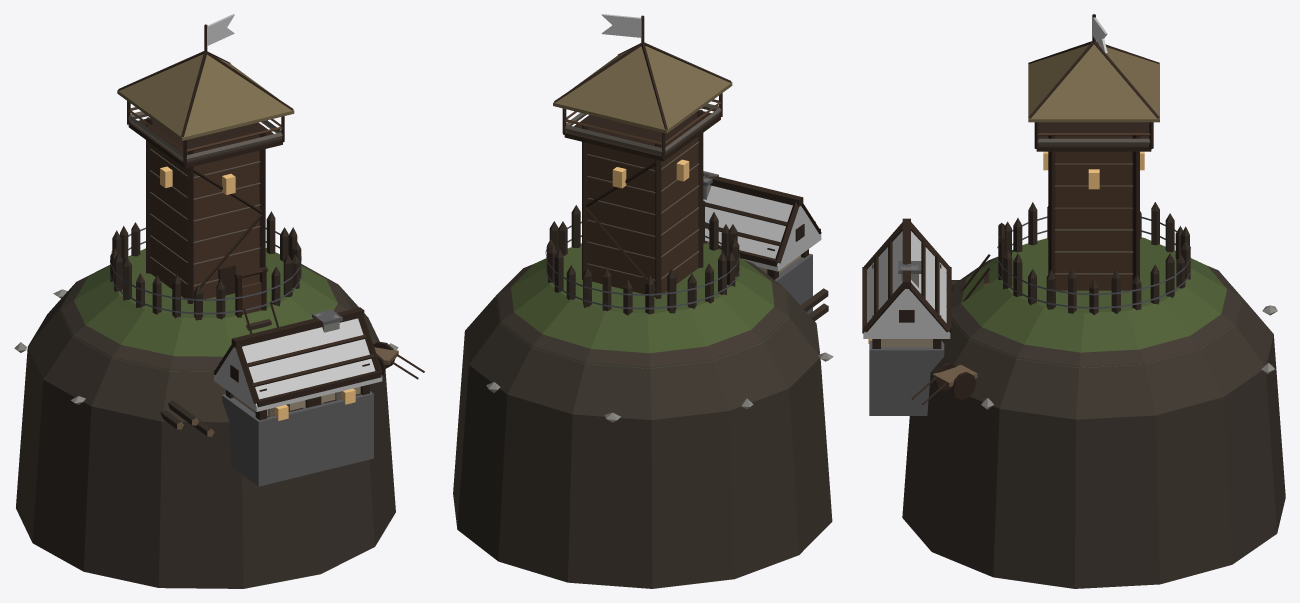
Rendered from motte.glb.
3 views of the same model, side by side, from view 1: azimuth 30°, elevation 25°; view 2: azimuth 150°, elevation 25°; view 3: azimuth 270°, elevation 25° (orthographic).
Visible parts, largest first — view 1: young keep, young keep close!fine; view 2: young keep, young keep close!fine, pennant; view 3: young keep, young keep close!fine.
Boxes of the visible parts, left/top/right/bottom form: young keep: left=16, top=24, right=424, bottom=588; young keep close!fine: left=14, top=51, right=398, bottom=417; young keep: left=453, top=15, right=832, bottom=588; young keep close!fine: left=486, top=42, right=833, bottom=422; pennant: left=601, top=14, right=641, bottom=37; young keep: left=862, top=14, right=1285, bottom=588; young keep close!fine: left=863, top=41, right=1277, bottom=409.
Size of the model in its own units: 6.37 by 9.01 by 7.02.
